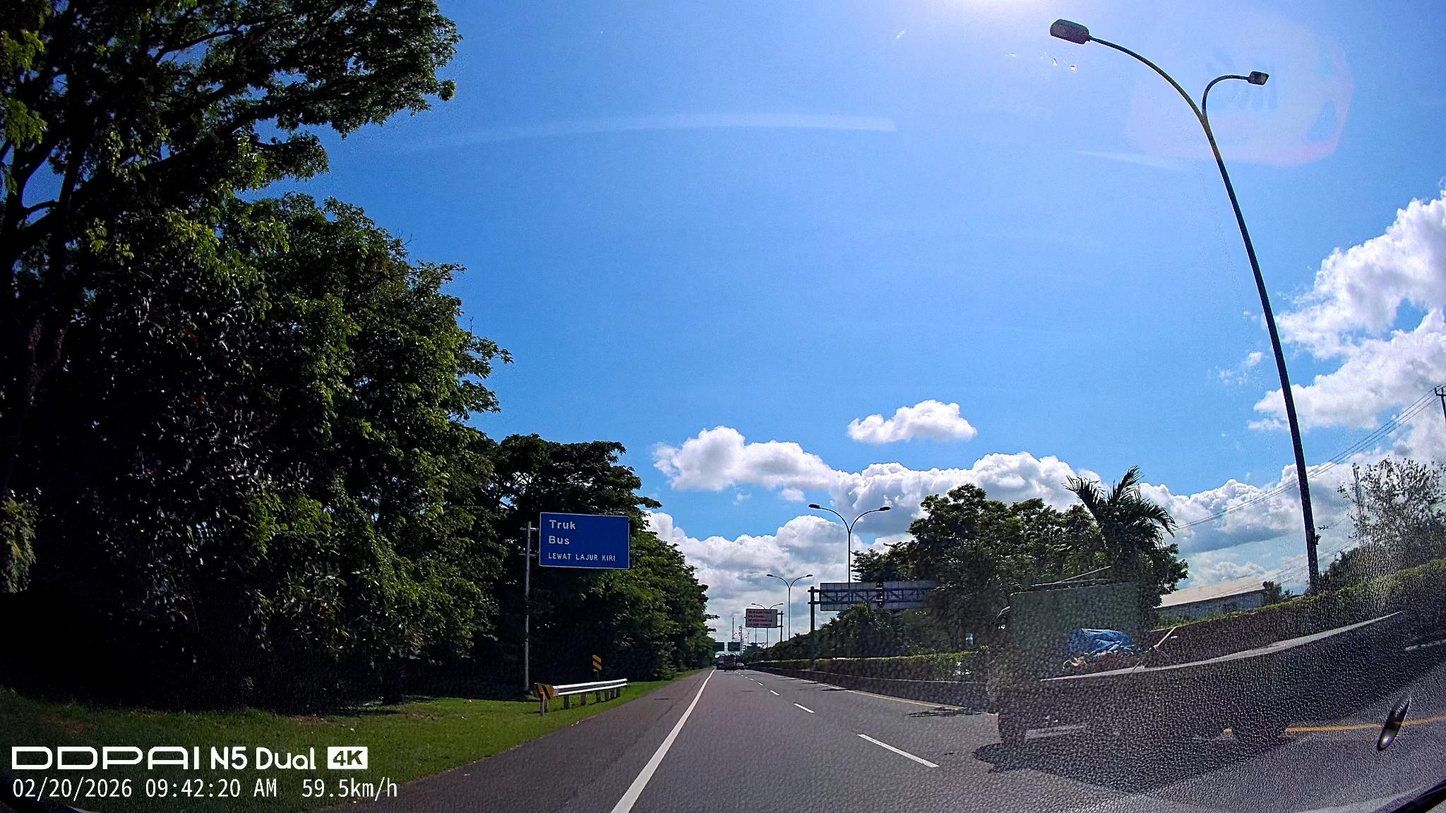rambu_teks: (538, 511, 630, 570)
